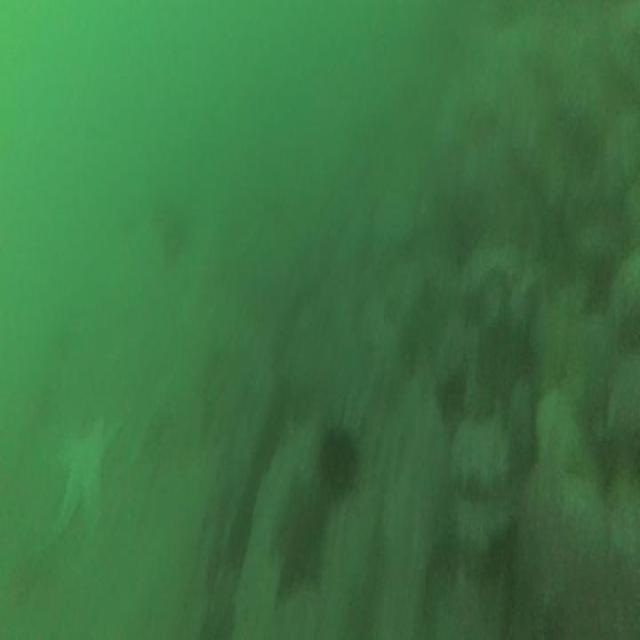echinus: (319, 433, 356, 496)
starfish: (48, 418, 119, 548), (269, 476, 327, 596)
